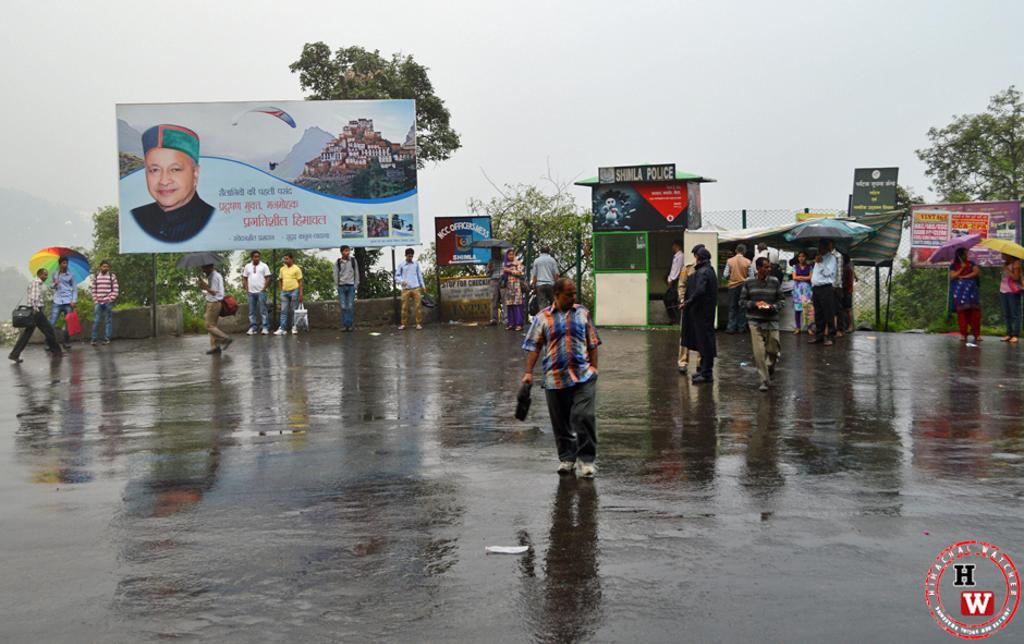face: (146, 149, 193, 207), (558, 286, 576, 310), (761, 262, 769, 275), (960, 252, 968, 261), (799, 254, 806, 264), (41, 272, 48, 281), (253, 254, 259, 264), (102, 265, 109, 273), (509, 252, 515, 261), (344, 249, 350, 257), (285, 257, 291, 265), (407, 255, 413, 262), (62, 261, 67, 268)
